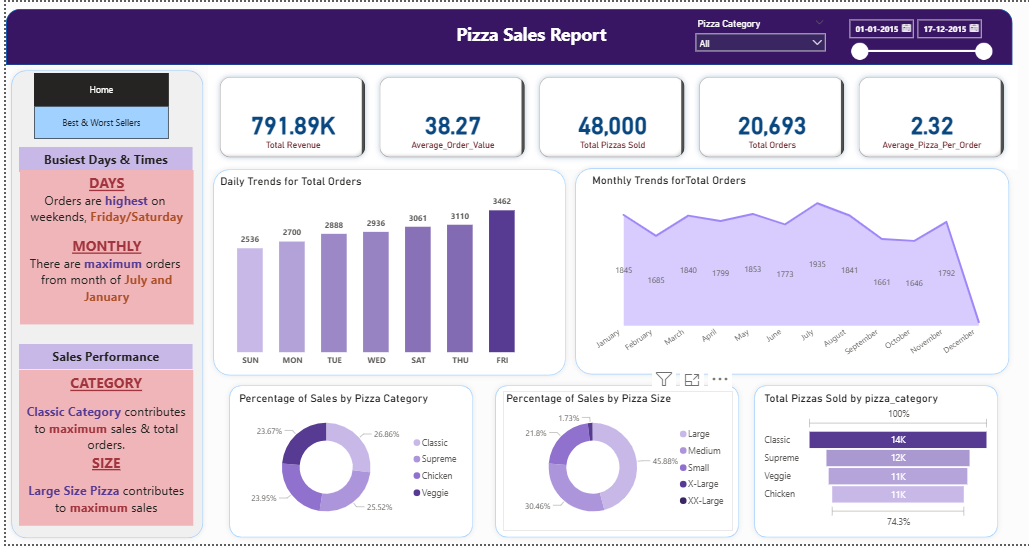

What the dashboard file says about the page in this screenshot:
{"tool":"powerbi","page":{"name":"Home","canvas":[1700,820],"ordinal":0},"visuals":[{"type":"shape","box":[0,95,306.7,725],"z":0},{"type":"cardVisual","fields":{"Data":["pizza_sales_db pizza_sales.Total Revenue","pizza_sales_db pizza_sales.Average_Order_Value","pizza_sales_db pizza_sales.Total Pizzas Sold","pizza_sales_db pizza_sales.Total Orders","pizza_sales_db pizza_sales.Average_Pizza_Per_Order"]},"box":[306.7,95,1226.7,158.3],"z":1000},{"type":"shape","box":[0,10,1525,85],"z":2000},{"type":"textbox","box":[676.7,25,253.3,50],"z":3000},{"type":"shape","box":[306.7,245,550,328.3],"z":4000},{"type":"columnChart","title":"Daily Trends for Total Orders","fields":{"Category":["pizza_sales_db pizza_sales.Order Day"],"Y":["pizza_sales_db pizza_sales.Total Orders"]},"box":[320,260,483.3,300],"z":5000},{"type":"shape","box":[855,243.3,673.3,328.3],"z":6000},{"type":"stackedAreaChart","title":"Monthly Trends forTotal Orders","fields":{"Y":["pizza_sales_db pizza_sales.Total Orders"],"Category":["pizza_sales_db pizza_sales.Month Name"]},"box":[883.3,258.3,615,298.3],"z":7000},{"type":"shape","box":[733.3,573.3,385,246.7],"z":8000},{"type":"shape","box":[1125,573.3,385,246.7],"z":9000},{"type":"shape","box":[330,573.3,385,246.7],"z":10000},{"type":"donutChart","title":"Percentage of Sales by Pizza Category","fields":{"Category":["pizza_sales_db pizza_sales.pizza_category"],"Y":["pizza_sales_db pizza_sales.Total Revenue"]},"box":[348.3,590,348.3,211.7],"z":11000},{"type":"donutChart","title":"Percentage of Sales by Pizza Size","fields":{"Y":["pizza_sales_db pizza_sales.Total Revenue"],"Category":["pizza_sales_db pizza_sales.pizza_size"]},"box":[753.3,590,348.3,211.7],"z":12000},{"type":"funnel","fields":{"Category":["pizza_sales_db pizza_sales.pizza_category"],"Y":["pizza_sales_db pizza_sales.Total Pizzas Sold"]},"box":[1143.3,590,351.7,211.7],"z":13000},{"type":"textbox","box":[20,220,263.3,38.3],"z":14000},{"type":"textbox","box":[21.4,254.3,262.9,234.3],"z":15000},{"type":"textbox","box":[20,557.1,264.3,235.7],"z":16000},{"type":"textbox","box":[20,518.3,263.3,38.3],"z":17000},{"type":"slicer","fields":{"Values":["pizza_sales_db pizza_sales.pizza_category"]},"box":[1035,20,216.7,65],"z":18000},{"type":"slicer","fields":{"Values":["pizza_sales_db pizza_sales.order_date"]},"box":[1265,16.7,245,78.3],"z":19000},{"type":"pageNavigator","box":[42.9,107.1,204.3,50],"z":20000},{"type":"pageNavigator","box":[42.9,157.1,204.3,50],"z":21000}]}

Visuals, with their boxes on the page's 1700x820 design canvas (x1, y1, x2, y2). These are canvas units, not pixel positions in the 1029x548 screenshot, which may show the page scaled, cropped or inside an application window:
shape: box(0, 95, 307, 820)
cardVisual - pizza_sales_db pizza_sales.Total Revenue x pizza_sales_db pizza_sales.Average_Order_Value: box(307, 95, 1533, 253)
shape: box(0, 10, 1525, 95)
textbox: box(677, 25, 930, 75)
shape: box(307, 245, 857, 573)
"Daily Trends for Total Orders" columnChart: box(320, 260, 803, 560)
shape: box(855, 243, 1528, 572)
"Monthly Trends forTotal Orders" stackedAreaChart: box(883, 258, 1498, 557)
shape: box(733, 573, 1118, 820)
shape: box(1125, 573, 1510, 820)
shape: box(330, 573, 715, 820)
"Percentage of Sales by Pizza Category" donutChart: box(348, 590, 697, 802)
"Percentage of Sales by Pizza Size" donutChart: box(753, 590, 1102, 802)
funnel - pizza_sales_db pizza_sales.pizza_category x pizza_sales_db pizza_sales.Total Pizzas Sold: box(1143, 590, 1495, 802)
textbox: box(20, 220, 283, 258)
textbox: box(21, 254, 284, 489)
textbox: box(20, 557, 284, 793)
textbox: box(20, 518, 283, 557)
slicer - pizza_sales_db pizza_sales.pizza_category: box(1035, 20, 1252, 85)
slicer - pizza_sales_db pizza_sales.order_date: box(1265, 17, 1510, 95)
pageNavigator: box(43, 107, 247, 157)
pageNavigator: box(43, 157, 247, 207)
